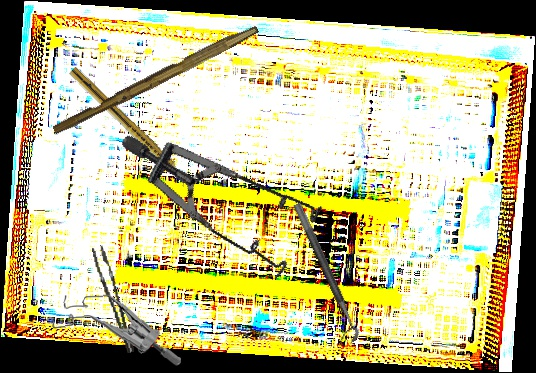Fixation Ring: (280, 201, 363, 348)
Handpiece: (65, 65, 193, 189)
Scalpel Handle: (51, 18, 260, 140)
Speculum: (118, 70, 343, 314), (45, 288, 181, 373)
Tissue Forceps: (91, 242, 135, 357)
